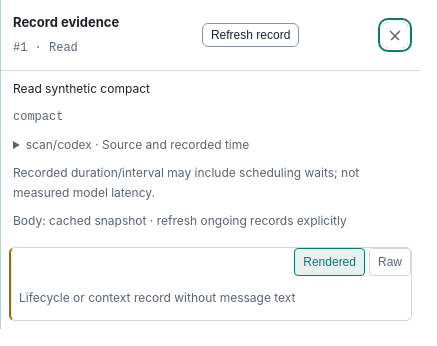
Test: WB-002 selected record inspector › can inspect retained Raw for a compact event without changing collapsed inline compact rows
Click the button "Raw". click: [390, 262]
box: [369, 248, 411, 276]
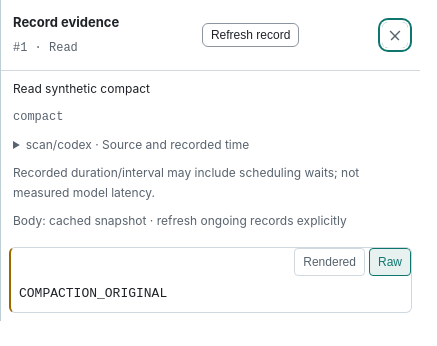
Now the text "COMPACTION_ORIGINAL" is shown, box [19, 286, 167, 301]
